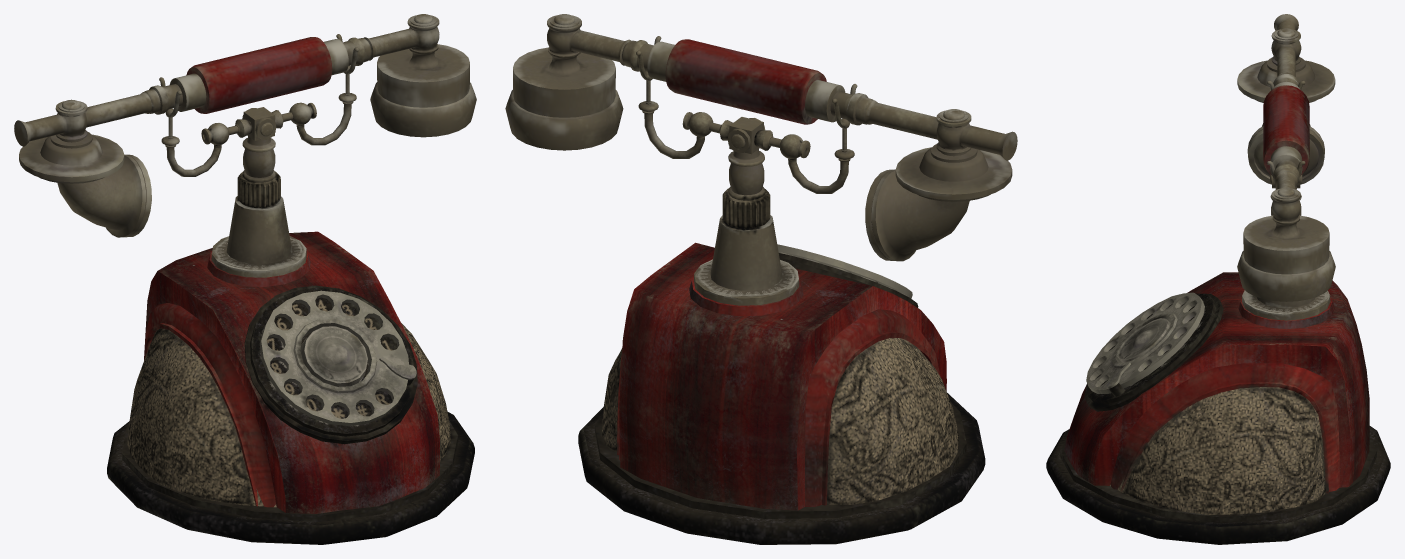
The model's file is OldPhone.fbx.
3 renders of one model, left to right at view 1: azimuth 30°, elevation 25°; view 2: azimuth 150°, elevation 25°; view 3: azimuth 270°, elevation 25°, orthographic. The views are drawn at different scales.
Visible parts, largest first — view 1: OldPhone_Box, OldPhone; view 2: OldPhone_Box, OldPhone; view 3: OldPhone_Box, OldPhone.
Boxes of the visible parts, box(x1,y1,x2,y2) form: OldPhone_Box: box(107, 34, 474, 544); OldPhone: box(14, 14, 476, 237); OldPhone_Box: box(578, 36, 985, 544); OldPhone: box(505, 14, 1017, 261); OldPhone_Box: box(1046, 80, 1390, 544); OldPhone: box(1237, 14, 1335, 301).
Bounding box in the file's own units: 26.3 × 21.94 × 18.85.
